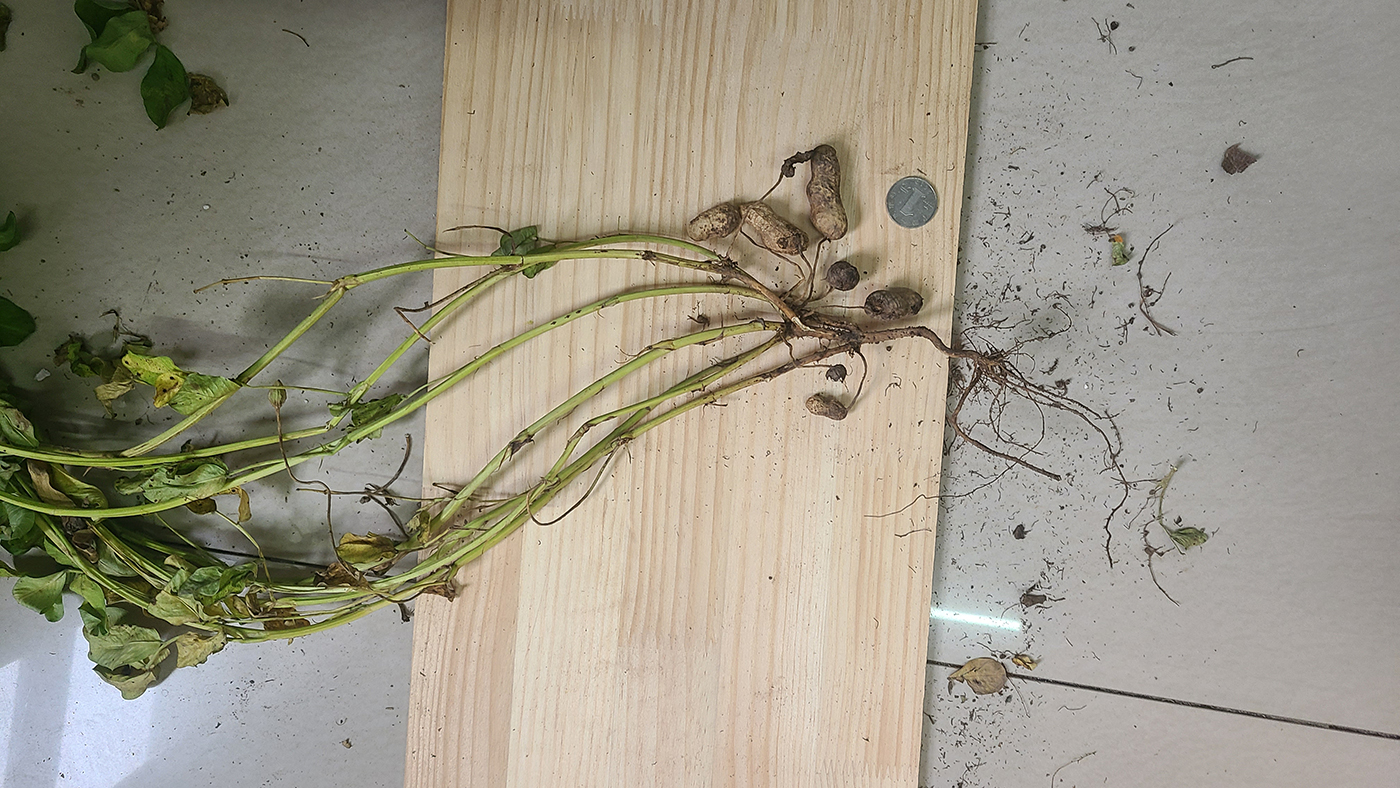h: (686, 202, 739, 242)
l: (806, 145, 848, 240), (741, 200, 808, 255), (863, 288, 925, 320), (805, 393, 848, 422), (828, 261, 861, 290), (782, 150, 811, 180), (826, 363, 848, 382)
